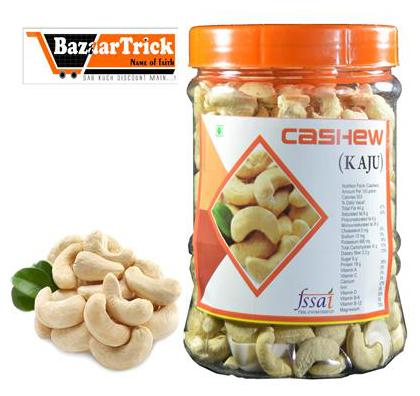fssai: (294, 287, 334, 308)
